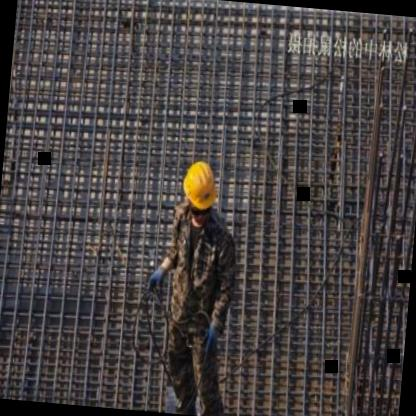helmet: (176, 157, 219, 228)
